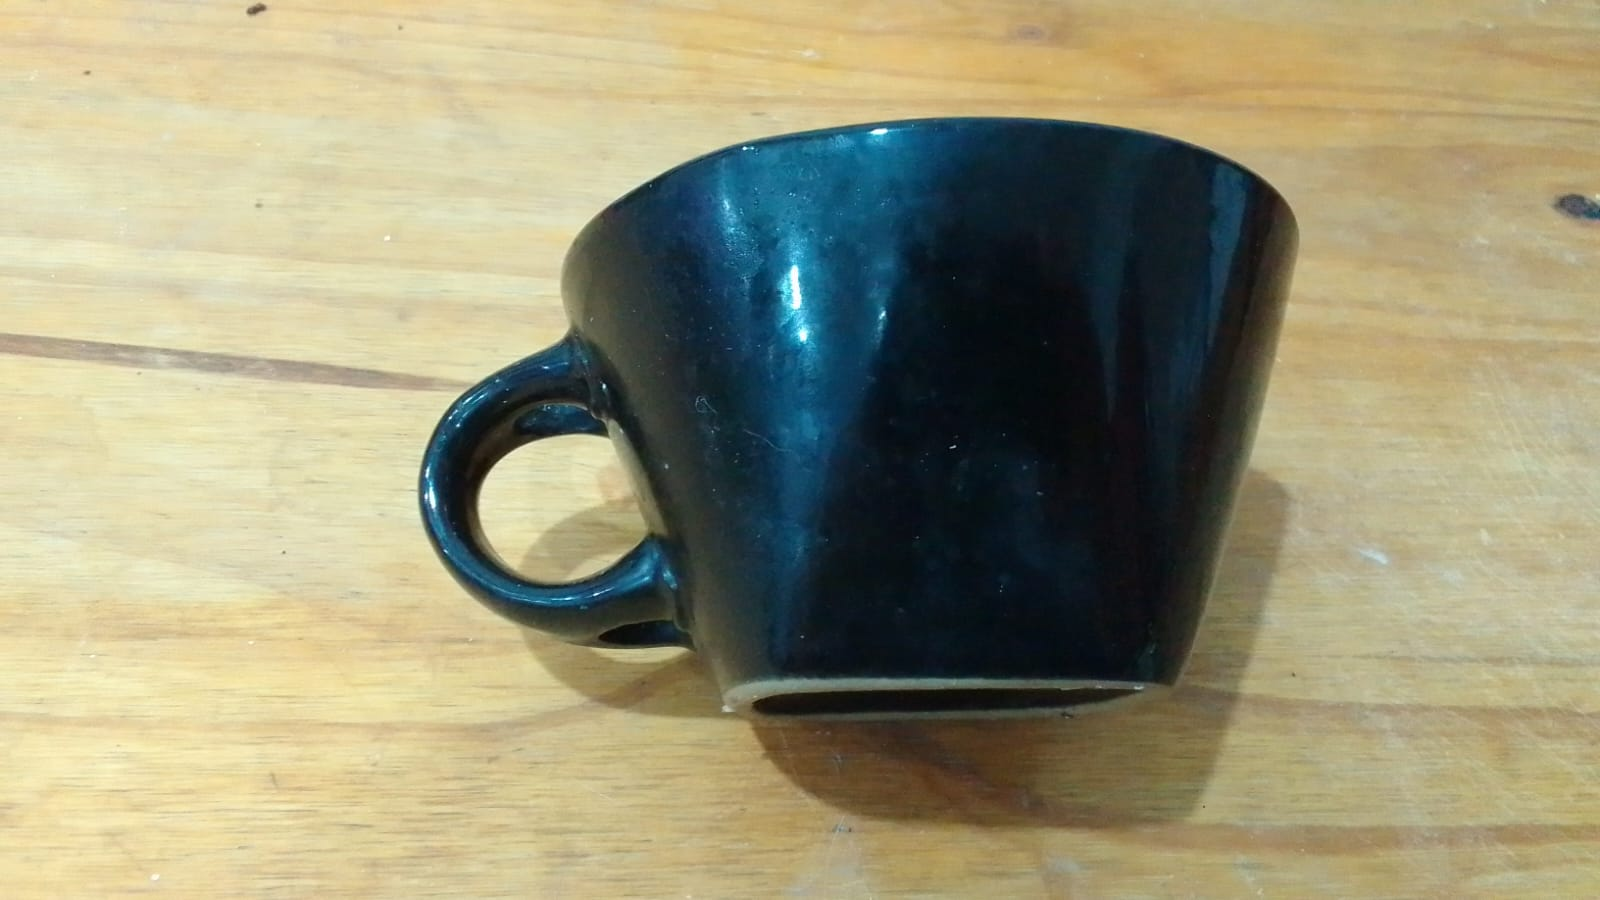dog: (538, 111, 1302, 722)
